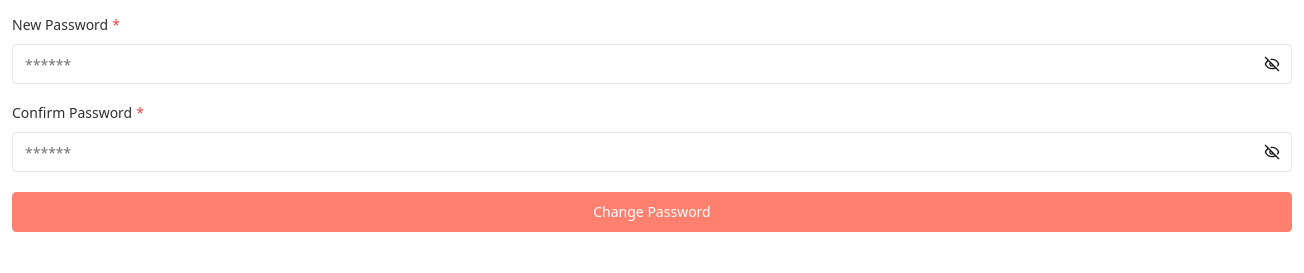
Test: ChangePasswordForm › validates form fields
In the password field named "New Password": (652, 64) [12, 44, 1292, 84], type "newpassword"
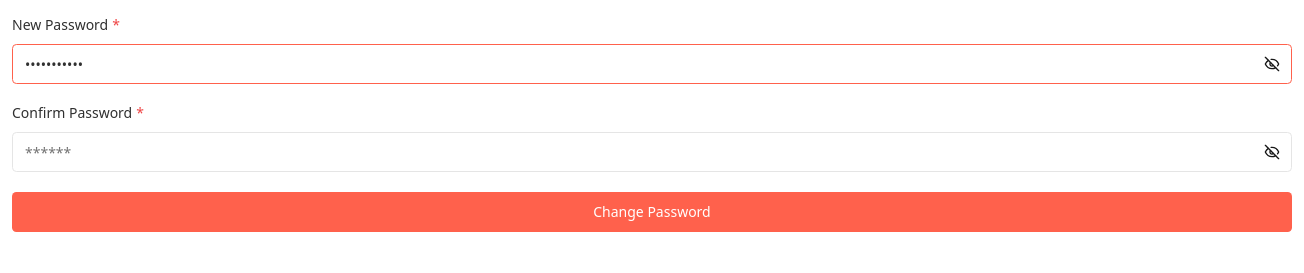
In the password field named "Confirm Password": (652, 152) [12, 132, 1292, 172], type "differentpassword"
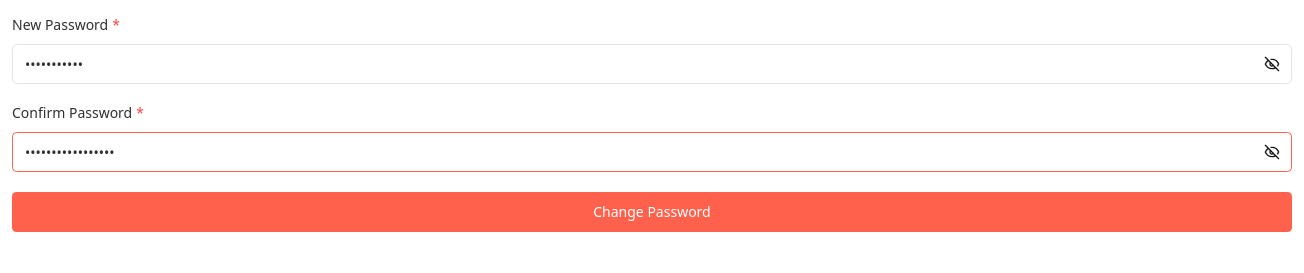
Click the button "Change Password": (652, 212) [12, 192, 1292, 232]
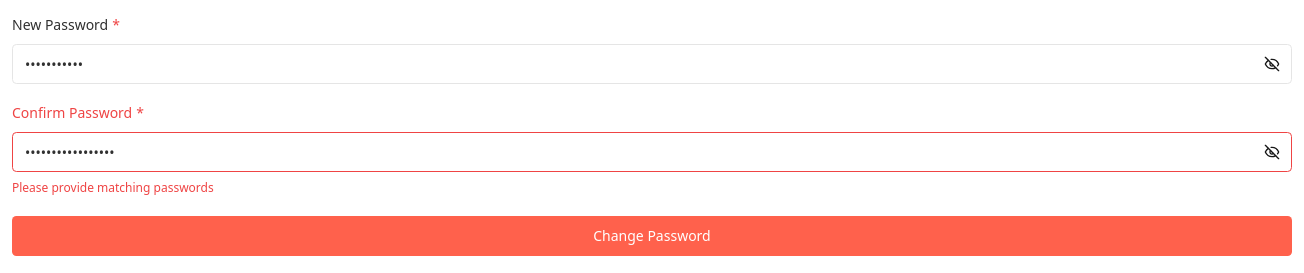
Expected: the text "Please provide matching passwords" is shown, [12, 179, 214, 196]
